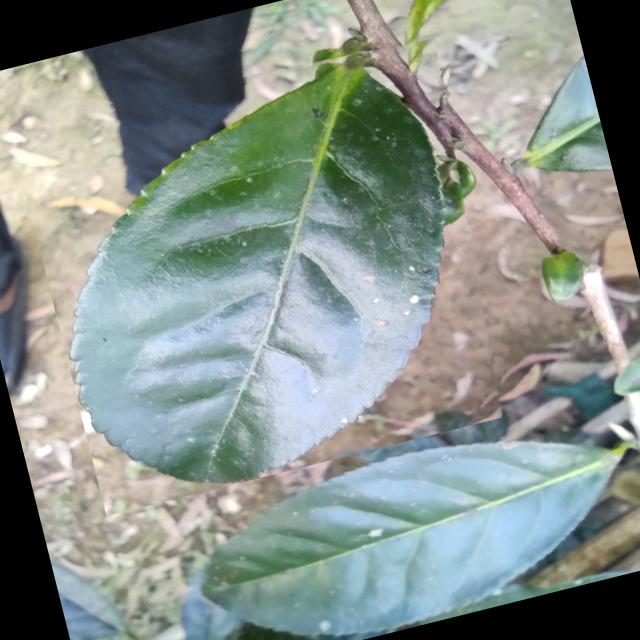Category D 7+ days, Not for Tea: (9, 19, 528, 516)
